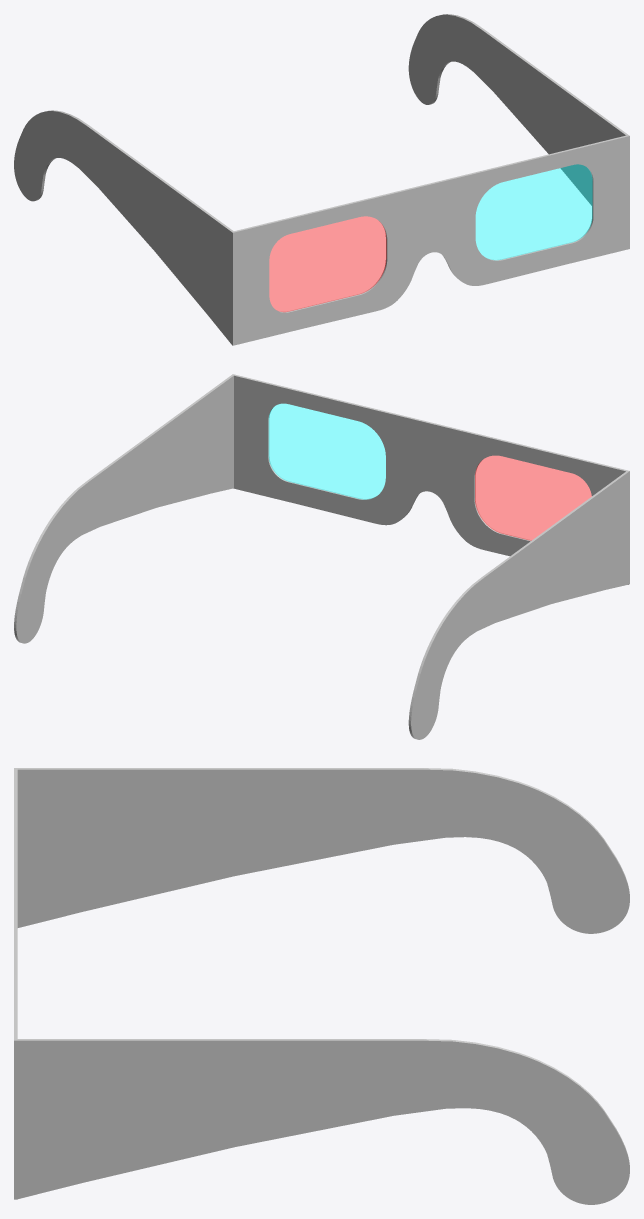
The model's file is new_3d-anaglyph_v21-flatshade.gltf.
The picture shows the model from 3 angles, top to bottom: view 1: azimuth 30°, elevation 25°; view 2: azimuth 150°, elevation 25°; view 3: azimuth 270°, elevation 25°; orthographic projection. The views are drawn at different scales.
Parts seen in each view (by area): view 1: glasses, cyan, magenta; view 2: glasses, magenta, cyan; view 3: glasses.
Boxes of the visible parts, x1,y1,x2,y2 form: glasses: (14,14,629,345); cyan: (269,216,386,311); magenta: (476,164,592,259); glasses: (14,374,629,739); magenta: (269,404,385,499); cyan: (475,456,591,540); glasses: (14,768,629,1204).
Size of the model in its own units: 5.05 by 1.42 by 4.83.
